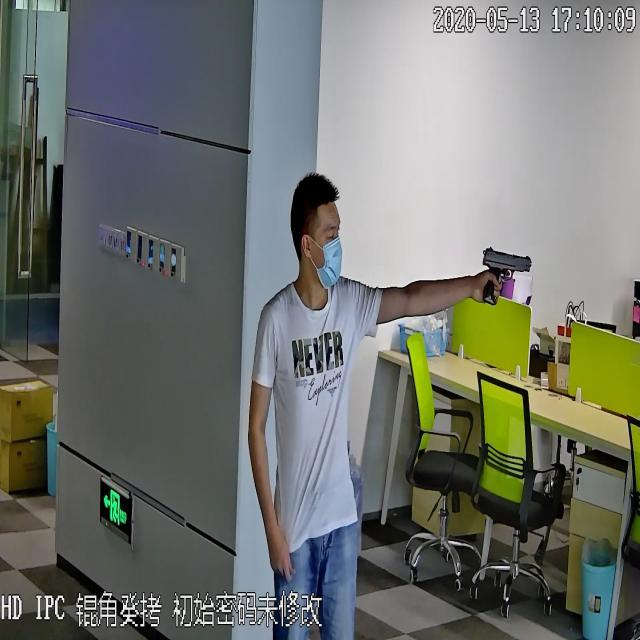gun: (478, 241, 532, 312)
